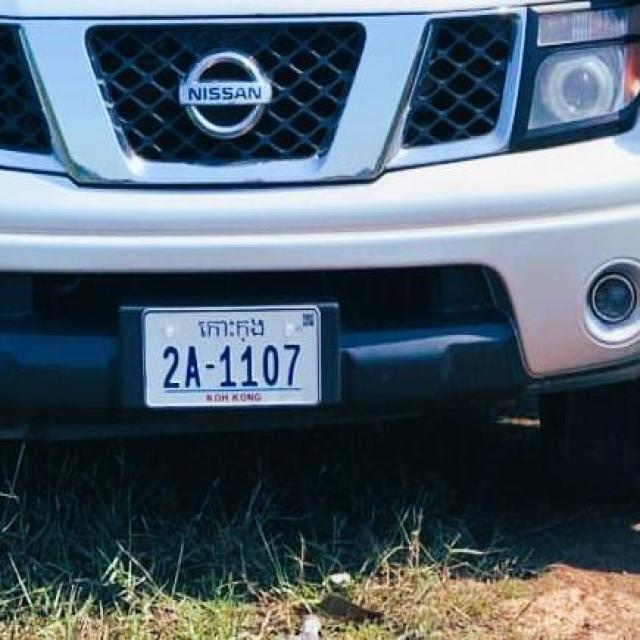Koh_Kong: (197, 317, 266, 342)
